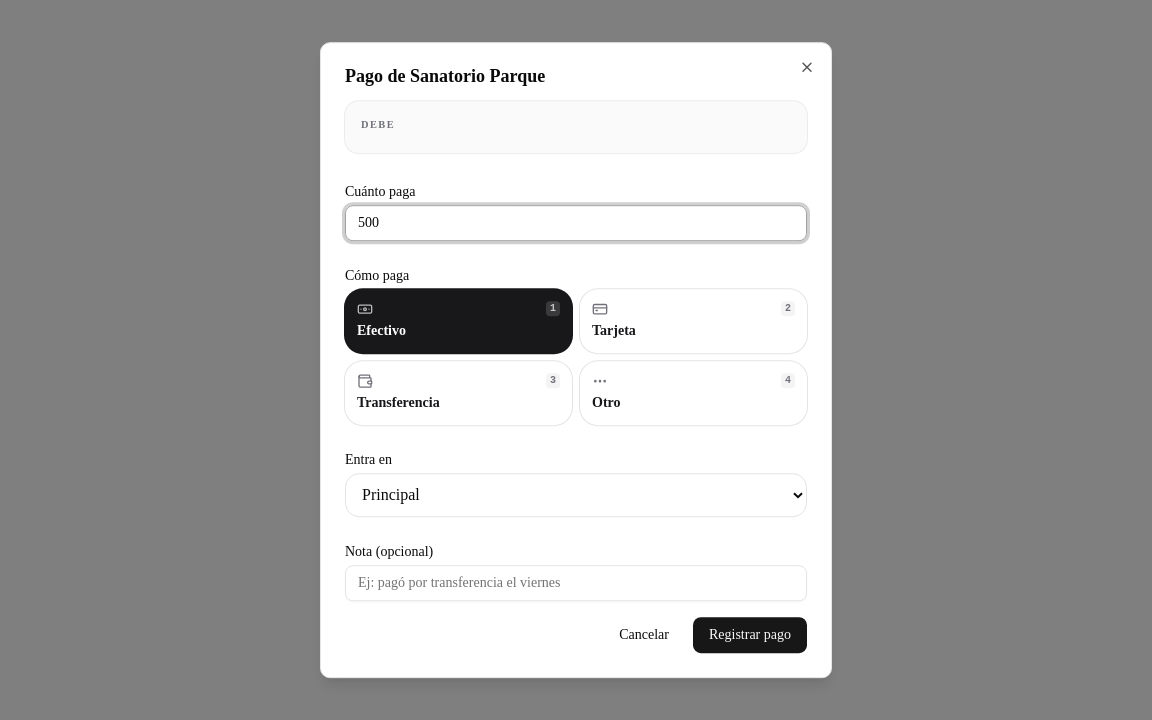
<CobrarSaldoModal /> — el selector es el mismo de las otras pantallas › sólo el efectivo pregunta a qué caja entra
Expected: the dropdown labelled "Entra en" is shown, [345,473,807,517]
Click the button "4 Otro": (694, 393) [580,361,807,425]
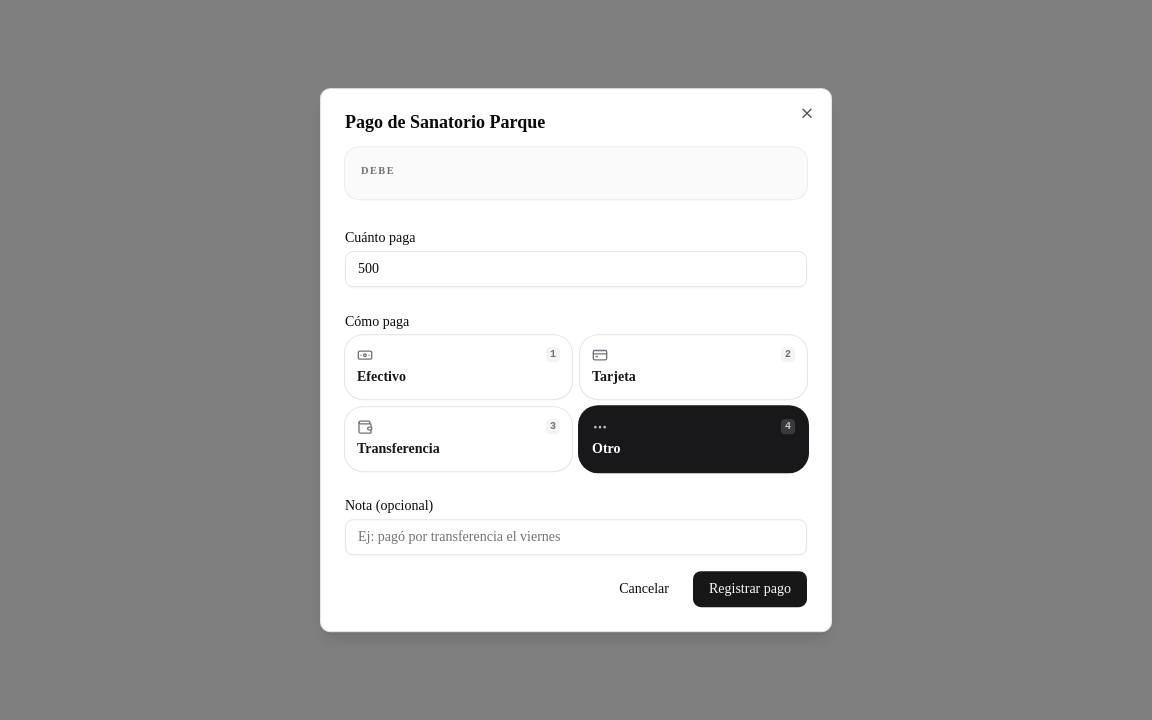
Expected: the label labelled "Entra en" is gone
